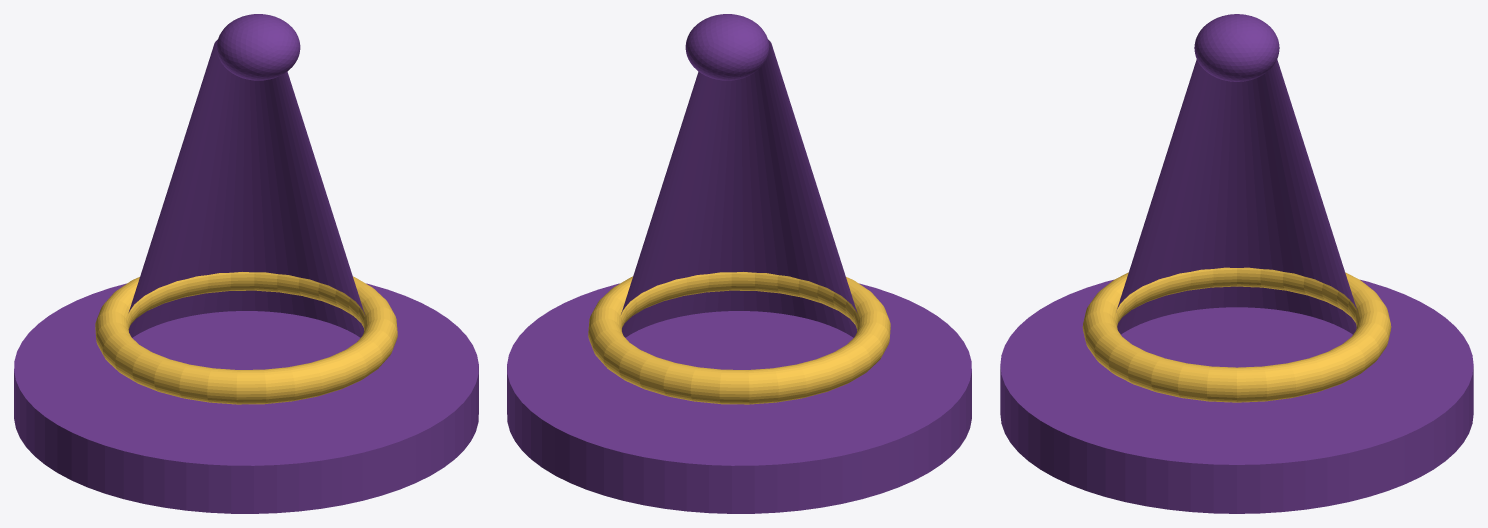
The model's file is WizardHat.glb.
3 renders of one model, left to right at view 1: azimuth 30°, elevation 25°; view 2: azimuth 150°, elevation 25°; view 3: azimuth 270°, elevation 25°, orthographic.
Parts seen in each view (by area): view 1: WizardHat_0, WizardHat_1, WizardHat_3, WizardHat_2; view 2: WizardHat_0, WizardHat_1, WizardHat_3, WizardHat_2; view 3: WizardHat_0, WizardHat_1, WizardHat_3, WizardHat_2.
Part boxes in pixels (left/top/right/bottom): WizardHat_0: left=14, top=283, right=478, bottom=513; WizardHat_1: left=128, top=39, right=364, bottom=337; WizardHat_3: left=95, top=272, right=397, bottom=404; WizardHat_2: left=216, top=14, right=300, bottom=80; WizardHat_0: left=507, top=283, right=971, bottom=513; WizardHat_1: left=621, top=39, right=857, bottom=337; WizardHat_3: left=588, top=272, right=890, bottom=404; WizardHat_2: left=685, top=14, right=769, bottom=80; WizardHat_0: left=1000, top=279, right=1473, bottom=513; WizardHat_1: left=1117, top=59, right=1356, bottom=334; WizardHat_3: left=1082, top=267, right=1391, bottom=402; WizardHat_2: left=1194, top=14, right=1279, bottom=81.
Size of the model in its own units: 0.65 by 0.6074 by 0.65.
